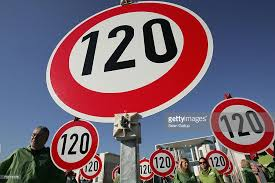Speed_limit_120km: (43, 1, 216, 124), (210, 96, 275, 153), (48, 119, 101, 171), (149, 149, 176, 179)
